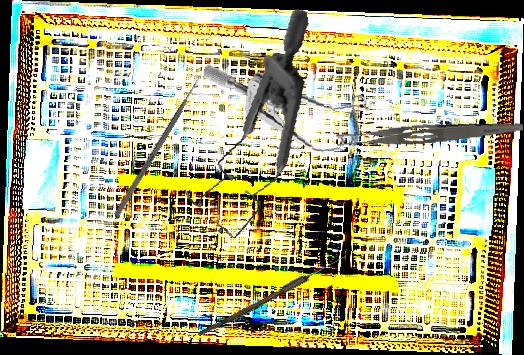Dressing Forceps: (335, 113, 524, 152)
Pusher: (113, 70, 206, 218)
Speculum: (159, 7, 341, 247), (196, 63, 377, 161)
Surgical Spoon: (197, 252, 348, 340)
